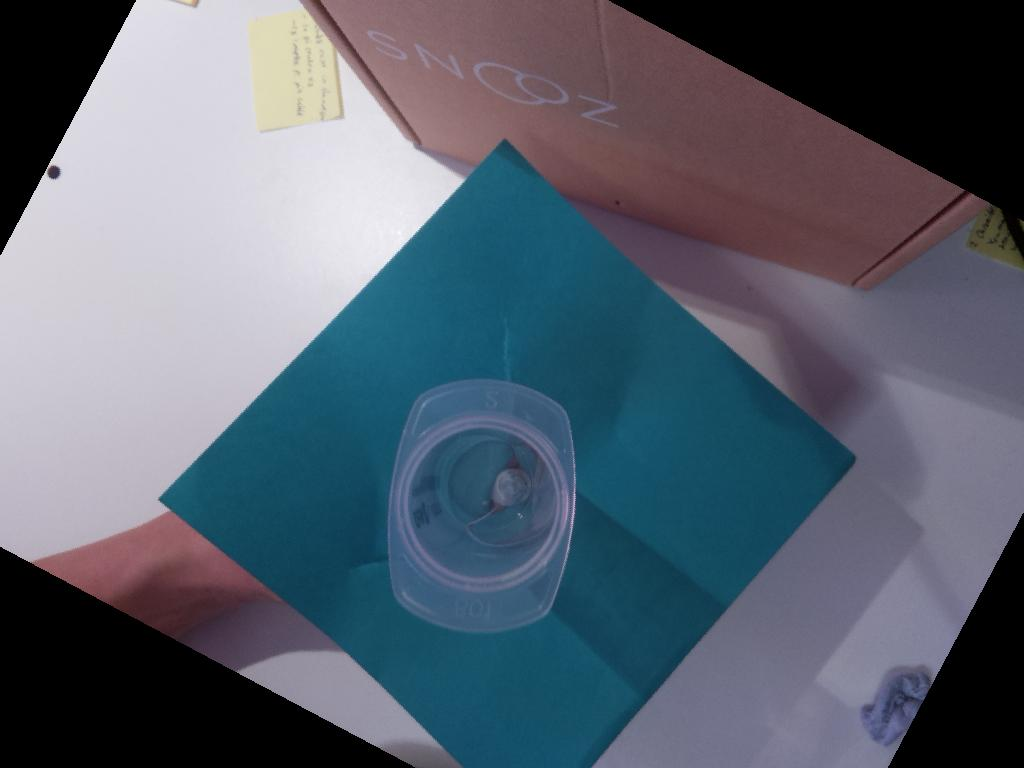clean: (383, 375, 577, 632)
